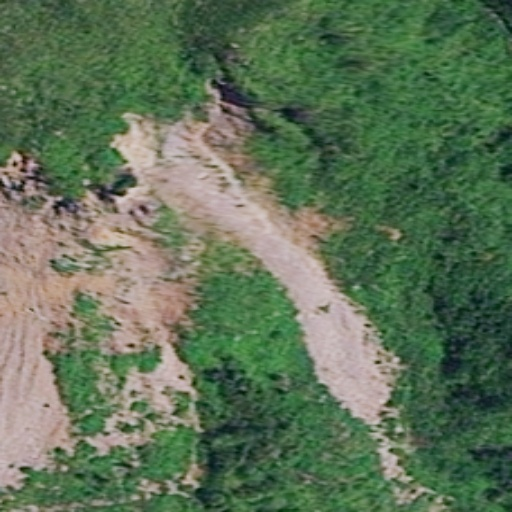landslide: (3, 94, 404, 491)
